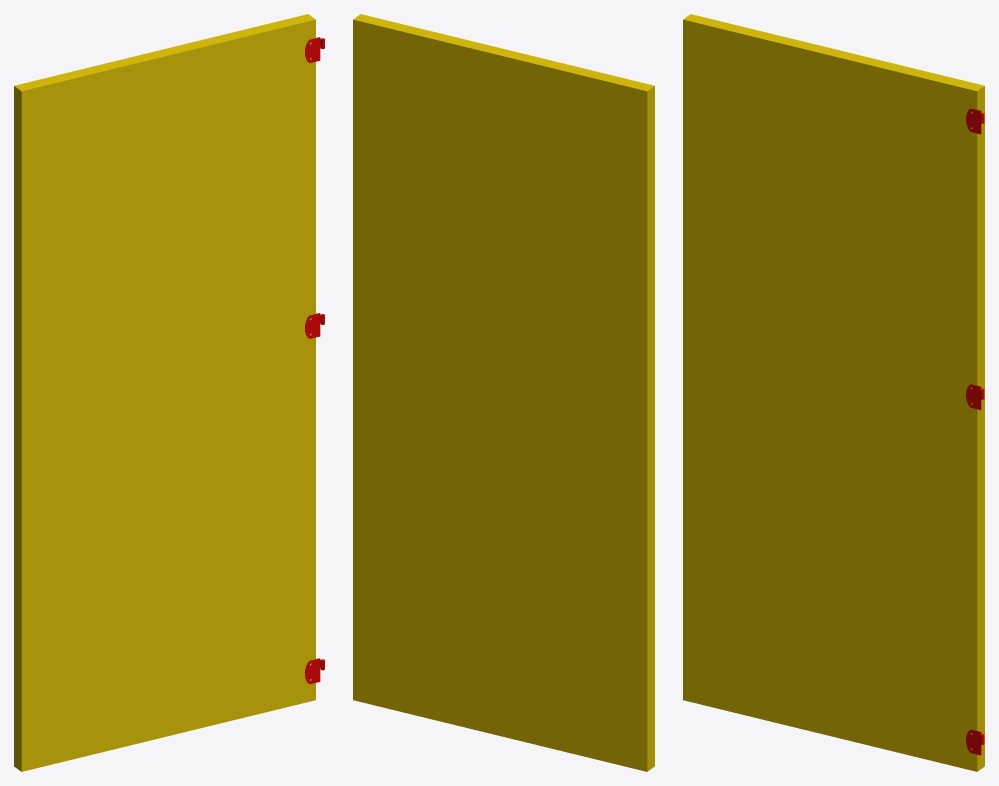
The model's file is door_right_simple.fbx.
3 renders of one model, left to right at view 1: azimuth 30°, elevation 25°; view 2: azimuth 150°, elevation 25°; view 3: azimuth 330°, elevation 25°, orthographic.
Parts seen in each view (by area): view 1: basic_left.001; view 2: basic_left.001; view 3: basic_left.001.
Boxes of the visible parts, <box> form: basic_left.001: <box>14,14,324,771</box>; basic_left.001: <box>353,14,654,771</box>; basic_left.001: <box>683,14,984,771</box>.
Size of the model in its own units: 91.8 by 198 by 5.12.
